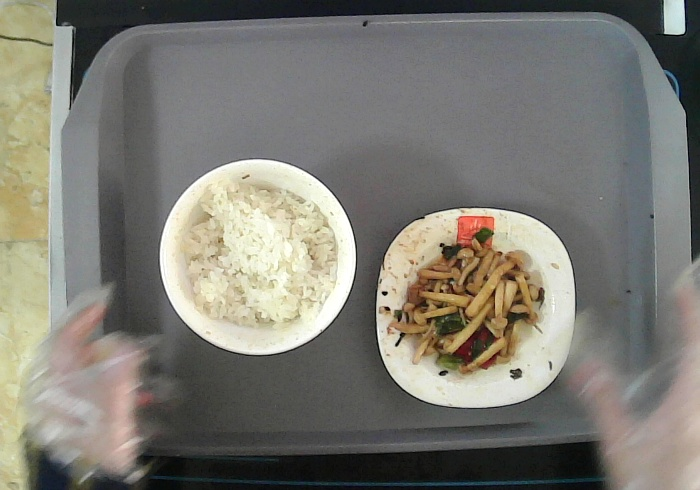SHKJ-Bai_Se_Si_Fang_Cai_Die: (375, 208, 576, 408)
SHKJ-Fan_Wan: (159, 158, 357, 355)
